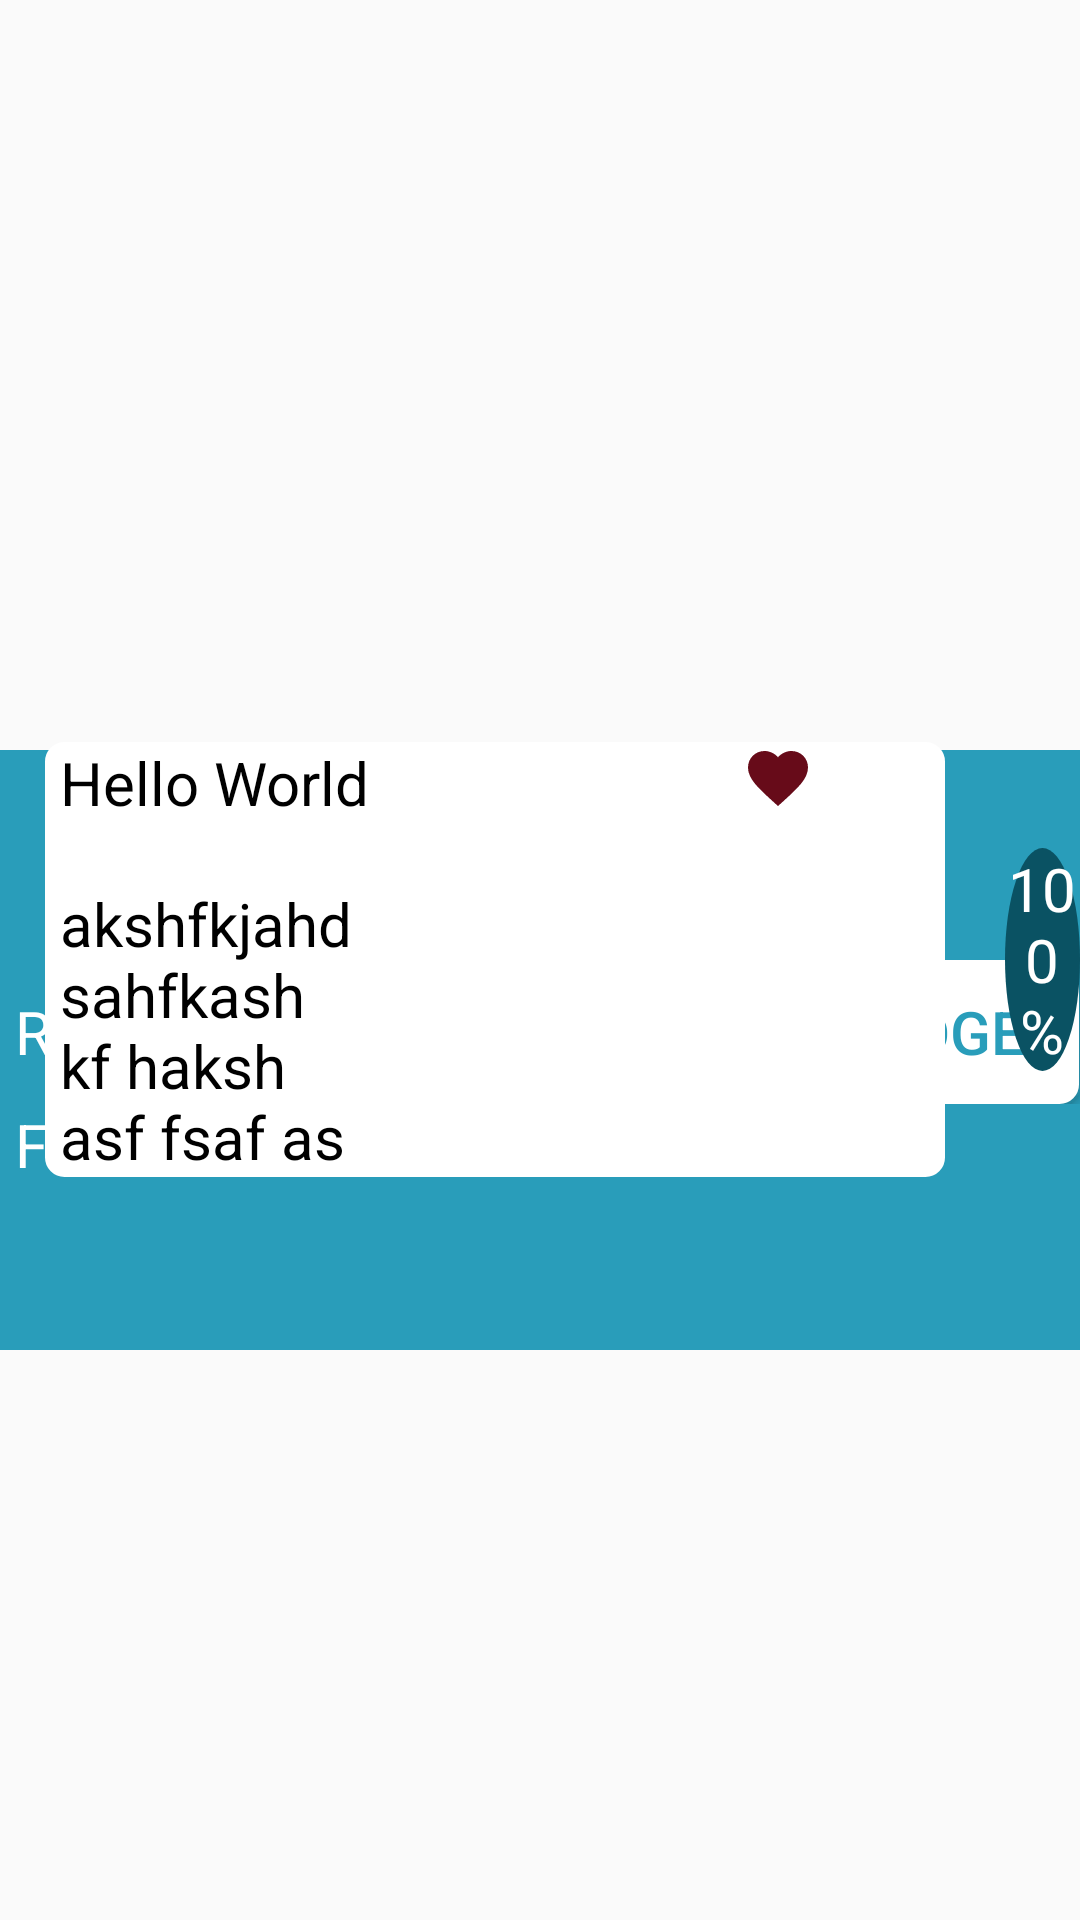

Icon click points for this 1080w x 1920h phone screenshot, format (x=x, y=y):
heart: (x=778, y=778)
